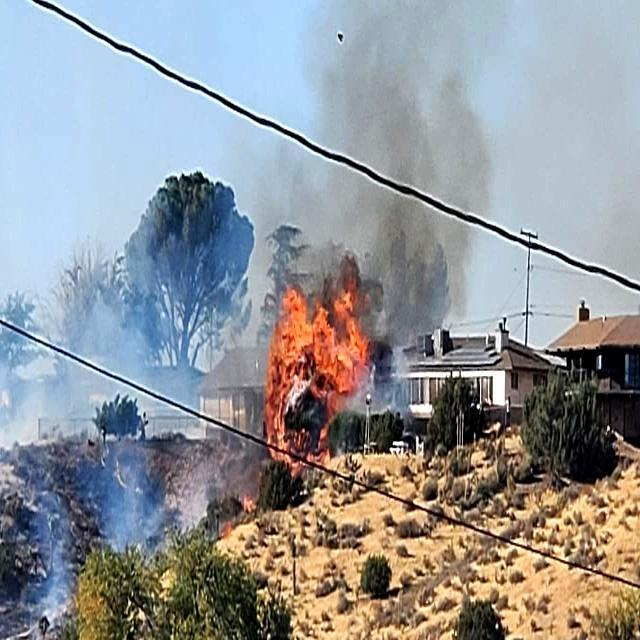Fire: (255, 250, 390, 408)
Smoke: (0, 201, 253, 523), (257, 0, 517, 263)
